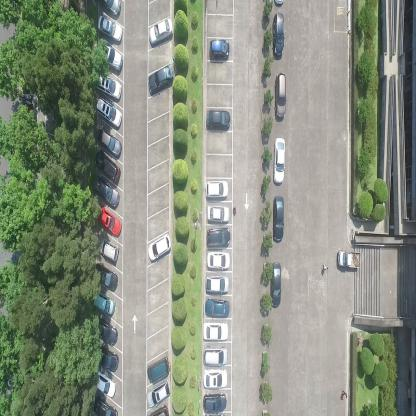car: (91, 176, 120, 210), (147, 61, 174, 97), (93, 148, 120, 184), (95, 95, 123, 128), (95, 125, 122, 157), (96, 14, 123, 45), (96, 206, 122, 237), (93, 261, 118, 293), (94, 314, 118, 347), (145, 378, 171, 408), (96, 72, 122, 102), (149, 17, 173, 48), (147, 233, 172, 262), (99, 42, 124, 71), (94, 368, 117, 399), (146, 354, 171, 382), (273, 136, 286, 184), (93, 291, 116, 317), (202, 368, 229, 390), (271, 12, 284, 57), (274, 70, 286, 118), (204, 296, 230, 318), (203, 344, 229, 366), (97, 346, 119, 372), (97, 236, 119, 262), (272, 195, 284, 242), (206, 272, 230, 295), (206, 108, 230, 130), (207, 204, 231, 226), (206, 228, 231, 248), (93, 395, 118, 415), (203, 322, 230, 340), (271, 261, 281, 308), (208, 38, 229, 60), (205, 180, 229, 199), (203, 393, 227, 412), (206, 251, 231, 269), (338, 250, 361, 269), (99, 0, 122, 17), (147, 402, 170, 416)
